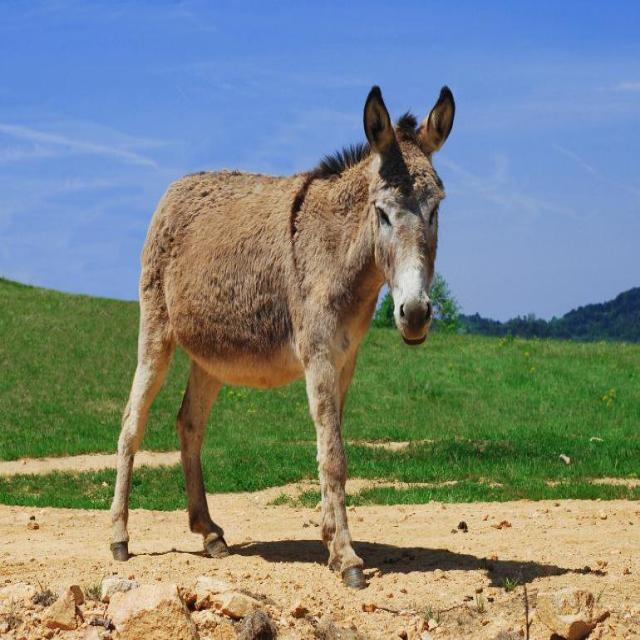Donkey: (99, 74, 461, 590)
